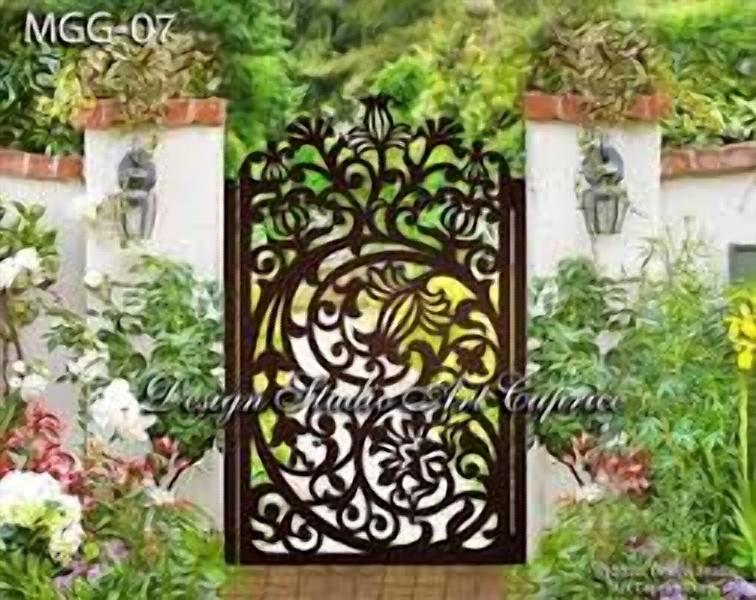Gate: (223, 91, 528, 568)
